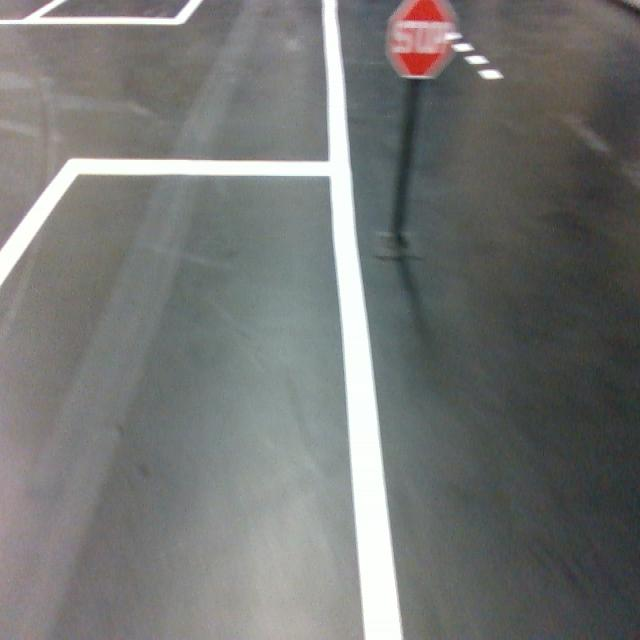stop-sign: (383, 0, 459, 80)
